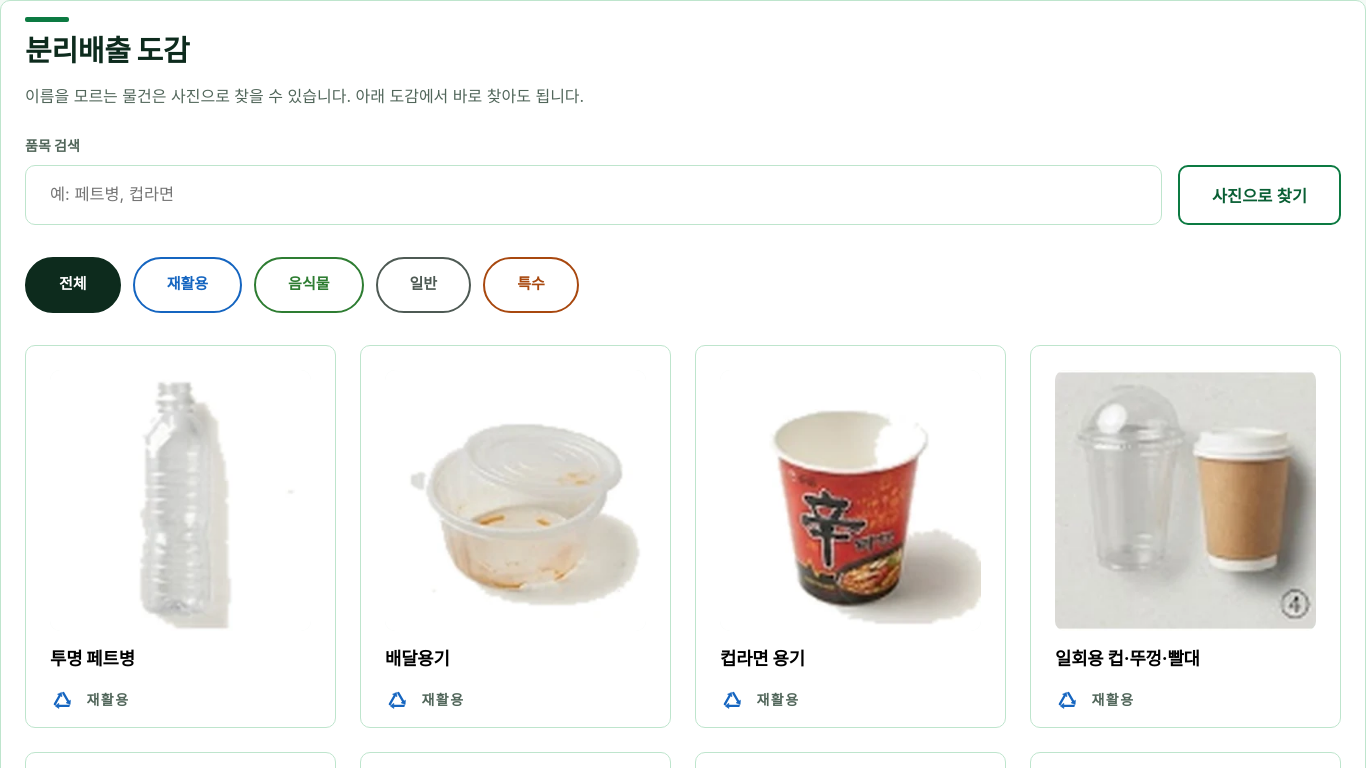
Test case: CatalogSection › closes the dialog on Escape and returns focus to the card
Click the button "투명 페트병 재활용": (180, 537) x1=25 y1=345 x2=336 y2=728
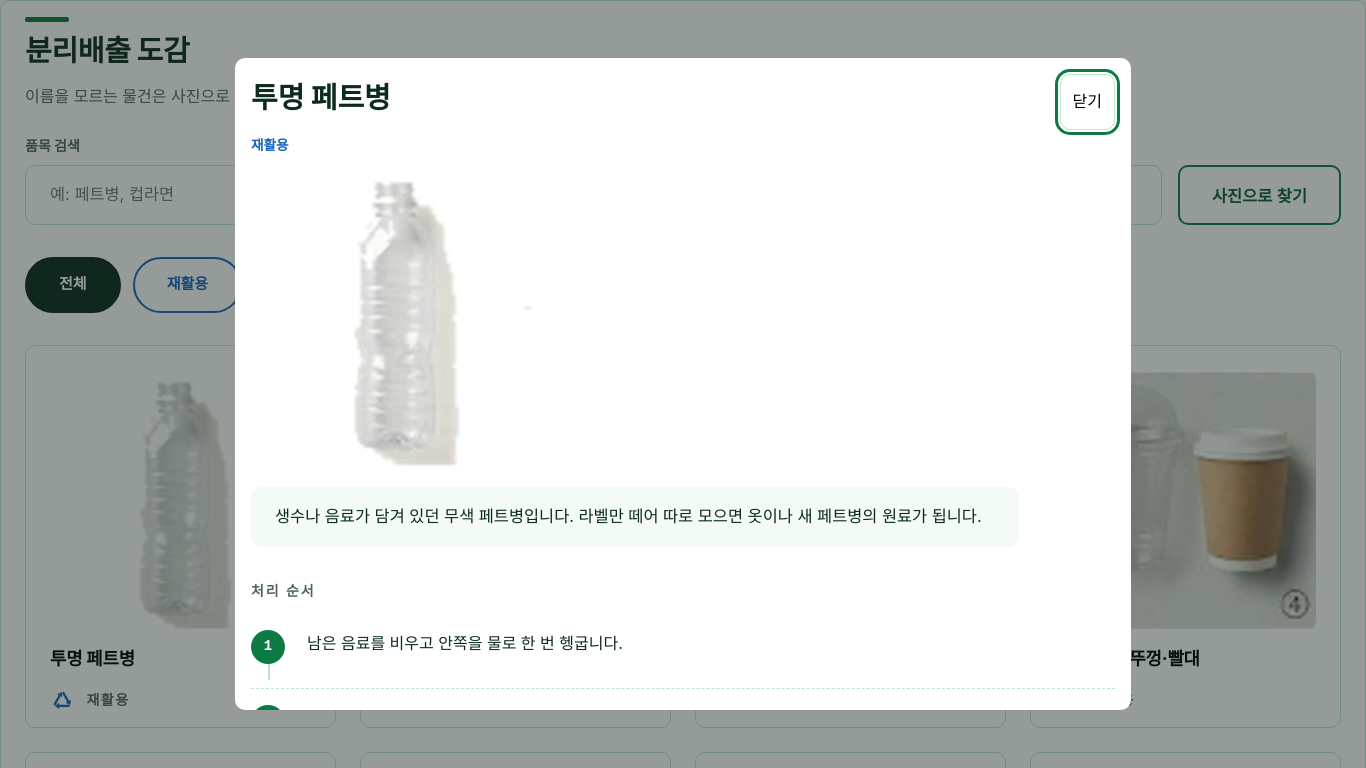
Press Escape
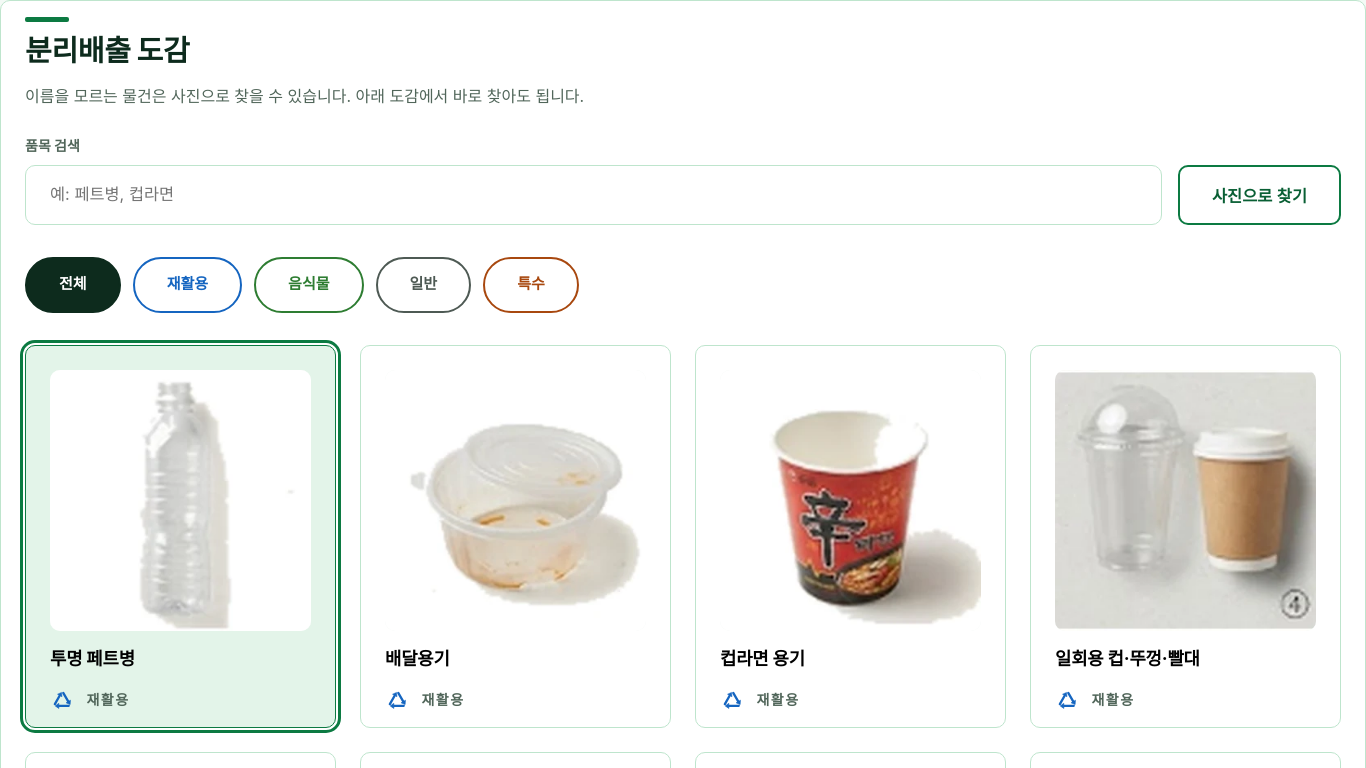
Result: the dialog is gone
